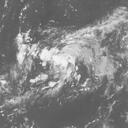cyclone: (27, 27, 97, 92)
